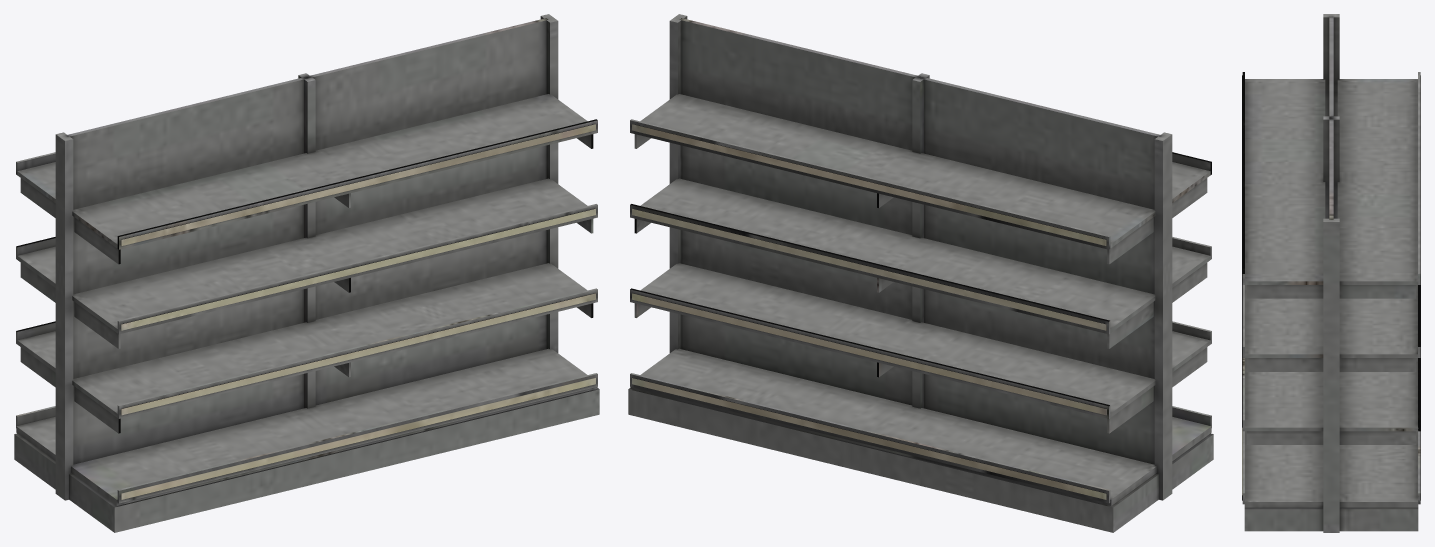
File: gondola_24_lod1_web.glb
The picture shows the model from 3 angles, left to right: view 1: azimuth 30°, elevation 25°; view 2: azimuth 150°, elevation 25°; view 3: azimuth 270°, elevation 25°; orthographic projection. The views are drawn at different scales.
Visible parts, largest first — view 1: Gondola24_Body; view 2: Gondola24_Body; view 3: Gondola24_Body.
Part boxes in pixels (box(x1,y1,x2,y2)): Gondola24_Body: box(14, 14, 599, 532); Gondola24_Body: box(628, 14, 1213, 532); Gondola24_Body: box(1242, 14, 1420, 532).
Size of the model in its own units: 2.44 by 1.7 by 0.886.
Materials: 1 (1 with a texture image).
